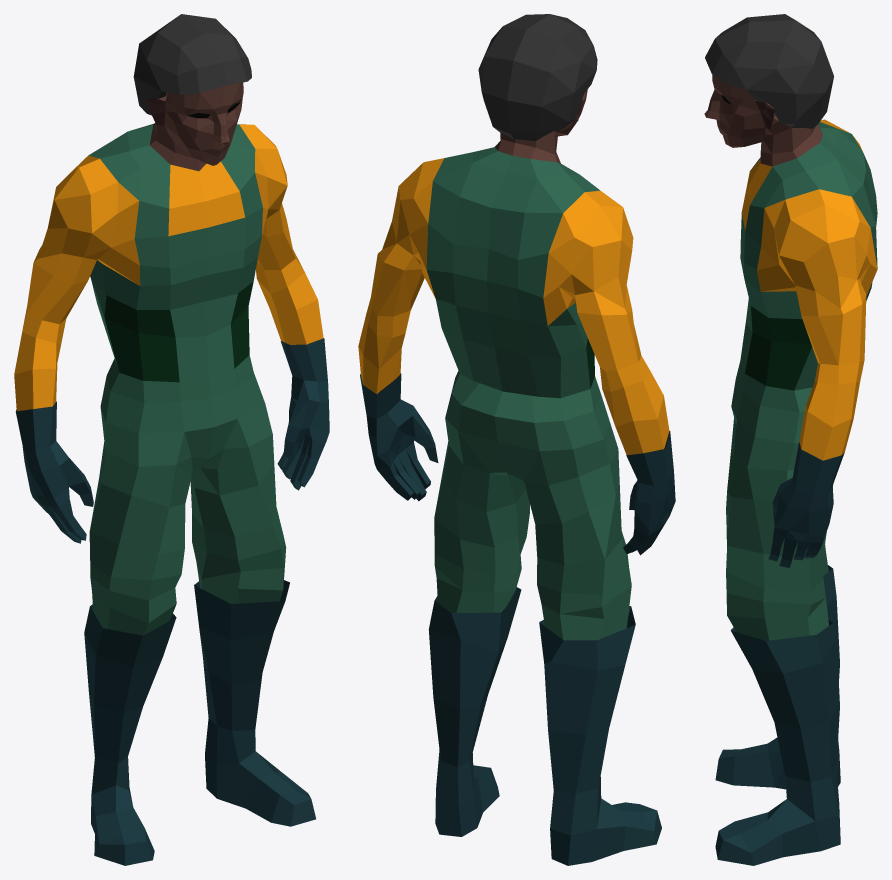
File: Male_08.FBX
3 renders of one model, left to right at view 1: azimuth 30°, elevation 25°; view 2: azimuth 150°, elevation 25°; view 3: azimuth 270°, elevation 25°, orthographic.
Visible parts, largest first — view 1: Male_08; view 2: Male_08; view 3: Male_08.
Boxes of the visible parts, <box> form: Male_08: <box>14,14,329,865</box>; Male_08: <box>358,14,675,865</box>; Male_08: <box>704,14,877,865</box>.
Size of the model in its own units: 0.712 by 1.79 by 0.3544.
Materials: 1 (1 with a texture image).
